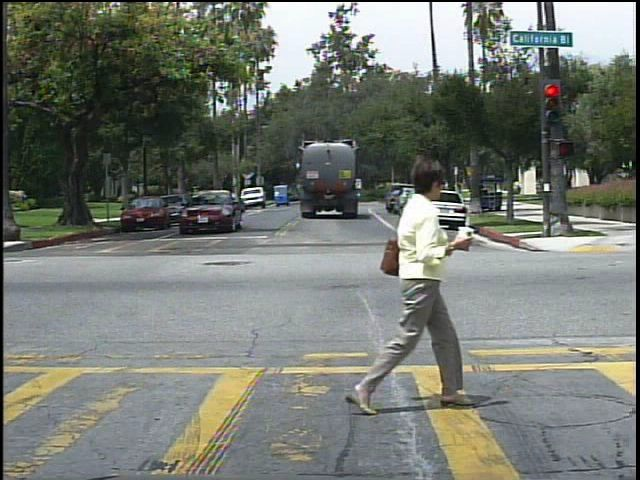person: (357, 146, 476, 418), (514, 180, 527, 199)
